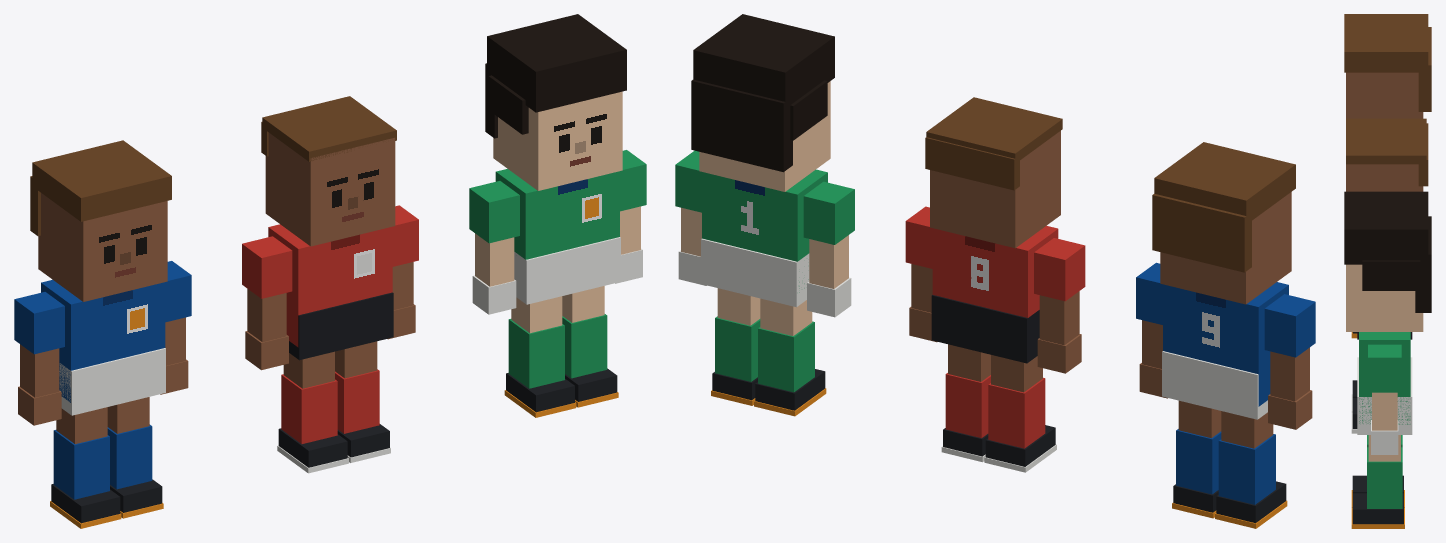
The model's file is jogadores.glb.
3 renders of one model, left to right at view 1: azimuth 30°, elevation 25°; view 2: azimuth 150°, elevation 25°; view 3: azimuth 270°, elevation 25°, orthographic. The views are drawn at different scales.
Visible parts, largest first — view 1: Corpo (×3), Braco_D (×3), Canela_D (×3), Canela_E (×3), Braco_E (×3), Perna_D (×3), Perna_E (×3); view 2: Corpo (×3), Braco_D (×3), Canela_D (×3), Canela_E (×3), Braco_E (×3), Perna_D (×3), Perna_E (×3); view 3: Corpo (×3), Canela_E (×2), Braco_E, Canela_D (×2), Perna_E.
Part boxes in pixels (x1,y1,x2,y2): Corpo (×3): (30, 14, 626, 415); Braco_D (×3): (14, 181, 519, 425); Canela_D (×3): (50, 319, 576, 528); Canela_E (×3): (107, 314, 618, 518); Braco_E (×3): (160, 150, 646, 394); Perna_D (×3): (56, 296, 562, 444); Perna_E (×3): (107, 286, 604, 433); Corpo (×3): (691, 14, 1295, 419); Braco_D (×3): (803, 181, 1315, 429); Canela_D (×3): (754, 321, 1287, 528); Canela_E (×3): (711, 316, 1221, 518); Braco_E (×3): (675, 150, 1167, 398); Perna_D (×3): (760, 298, 1273, 448); Perna_E (×3): (717, 288, 1221, 438); Corpo (×3): (1344, 14, 1431, 434); Canela_E (×2): (1351, 398, 1404, 528); Braco_E: (1368, 344, 1401, 454); Canela_D (×2): (1351, 380, 1404, 507); Perna_E: (1368, 435, 1400, 461).
Bounding box in the file's own units: 3.77 × 2.06 × 0.54.
Materials: 27 (9 with a texture image).
